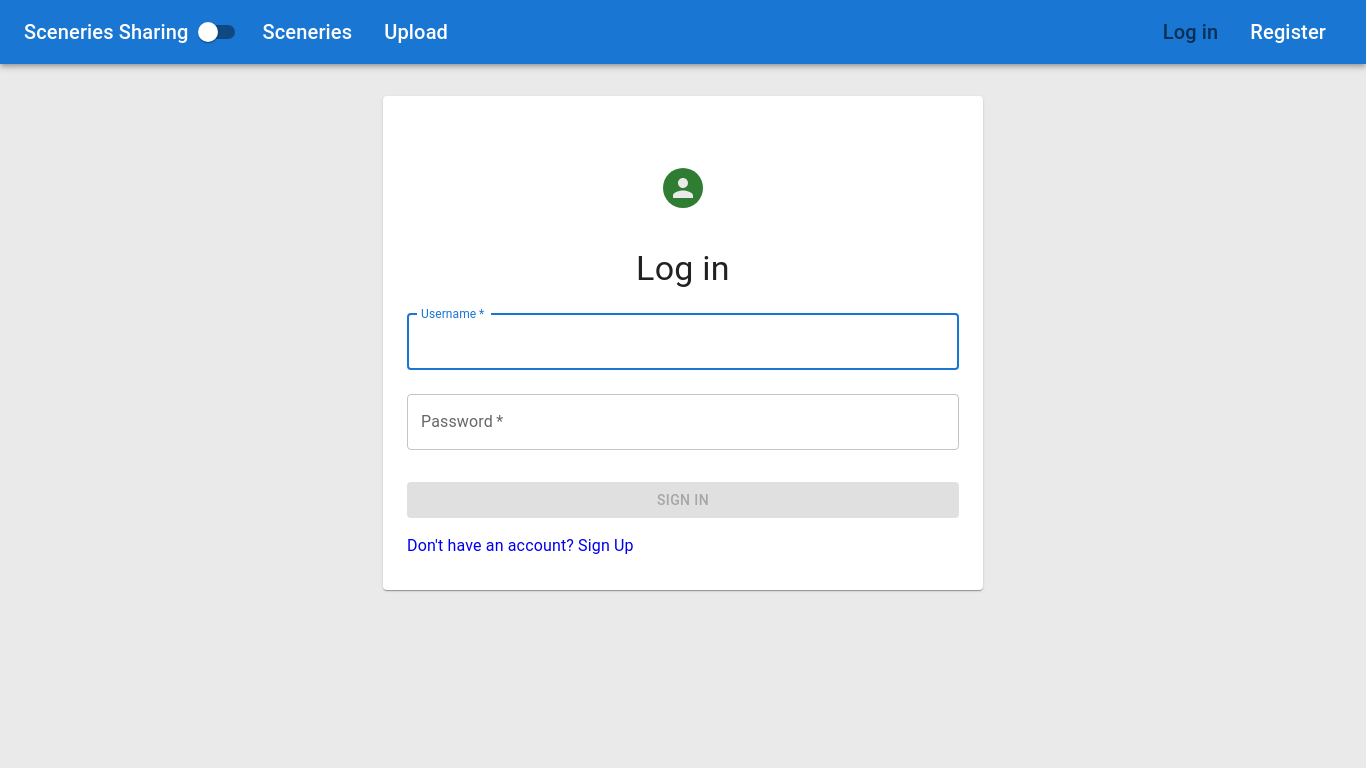
Scenario: Login Page › Display error for incorrect login
# Attempt login with invalid credentials and verify error message
Type "invalidusername" into the field named "userName".
click(683, 342); type("invalidusername")  # box [407, 314, 959, 370]
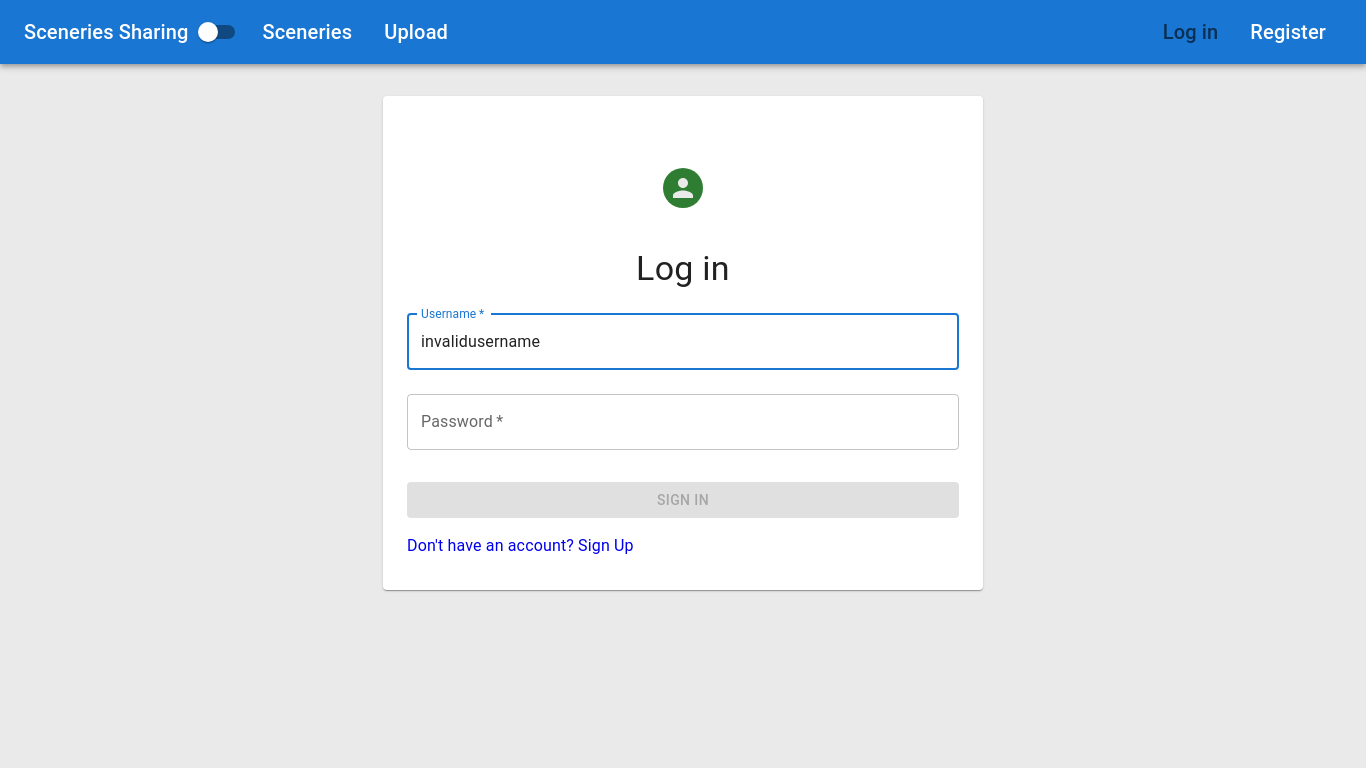
Type "invalidpassword" into the password field named "password".
click(683, 422); type("invalidpassword")  # box [407, 394, 959, 450]
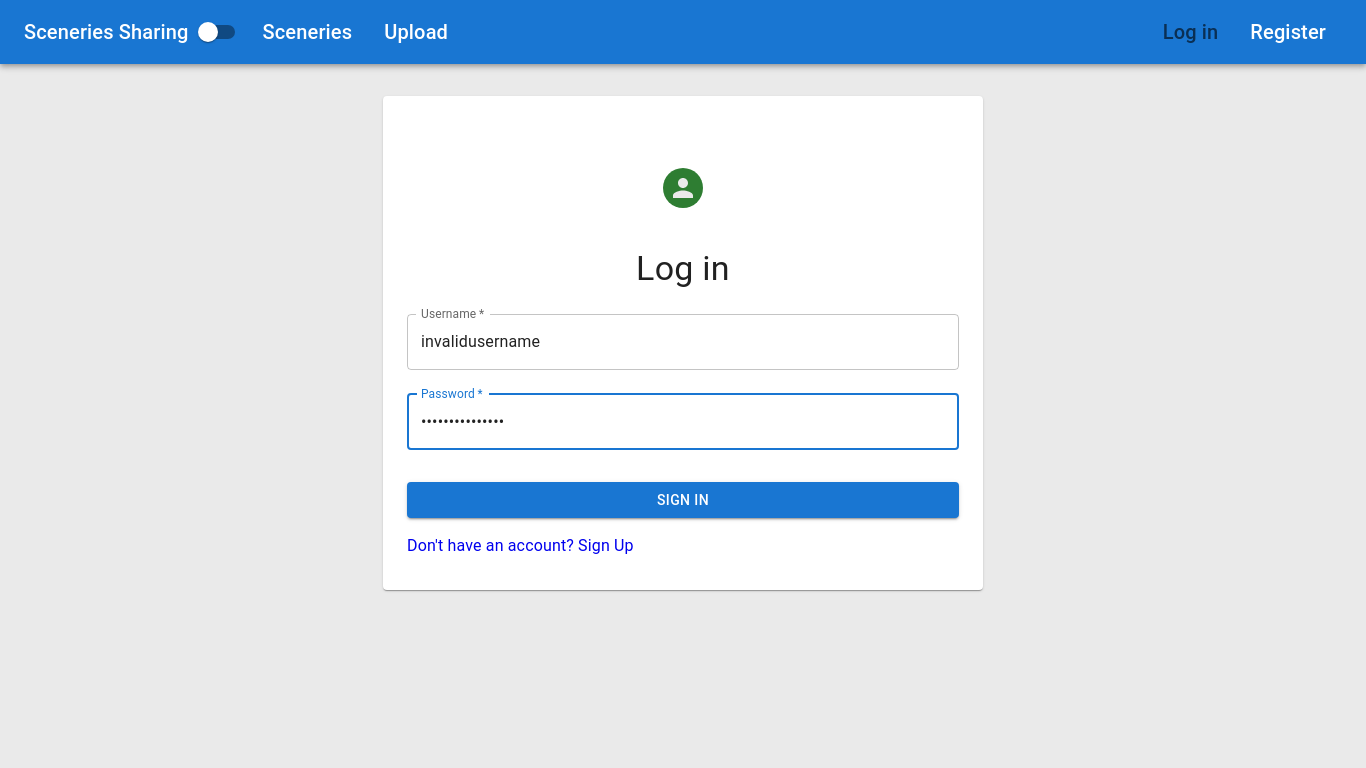
Click the submit button.
click(683, 501)  # box [407, 482, 959, 519]
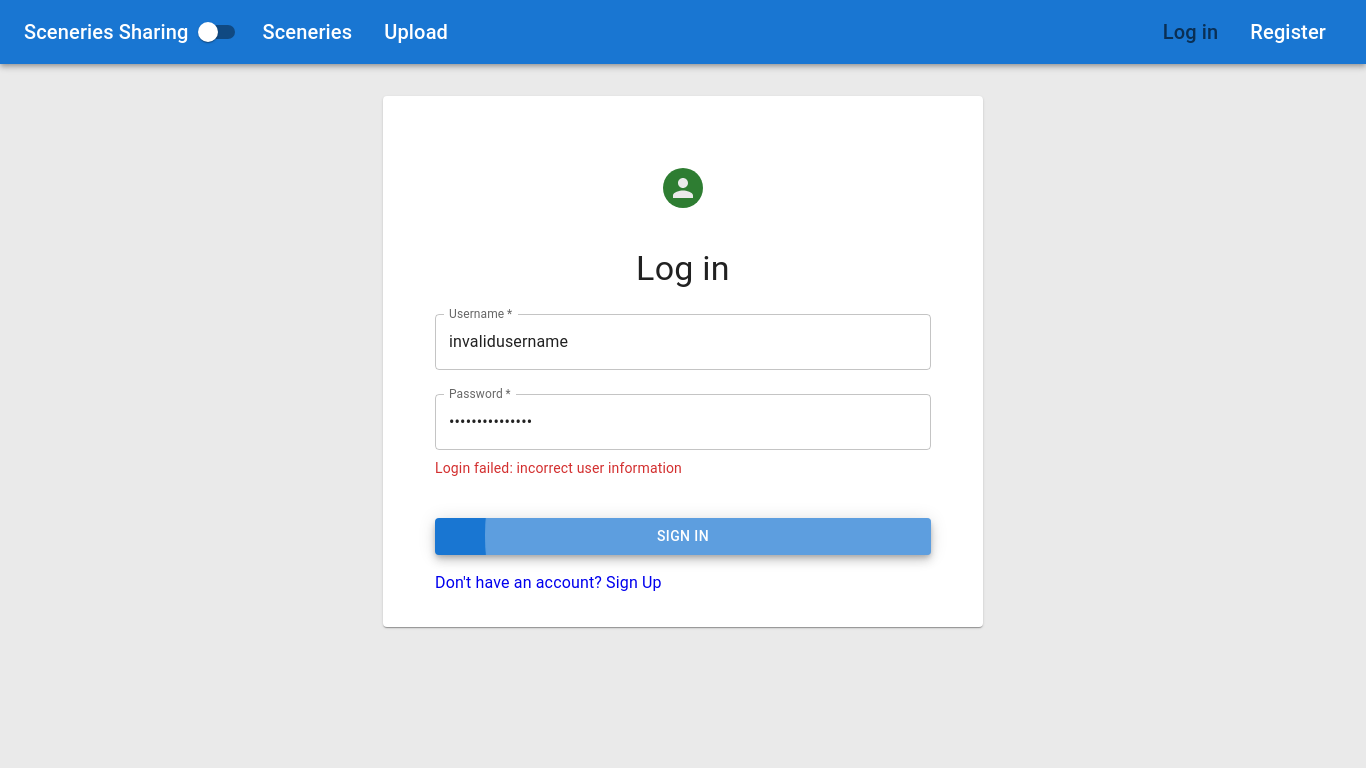
Check: the text "Login failed: incorrect user information" is shown, box [435, 460, 682, 476]
